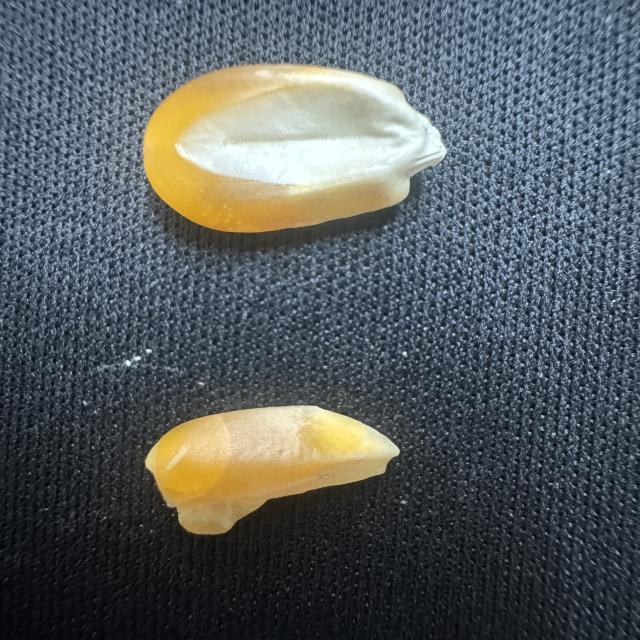Bad-Seed: (140, 400, 413, 540)
Good-Seed: (128, 54, 452, 239)
